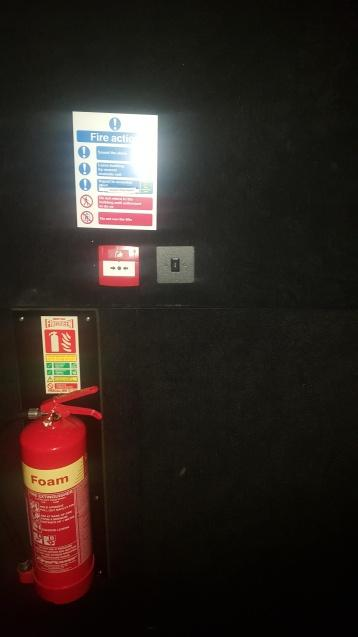APAR: (18, 384, 102, 603)
